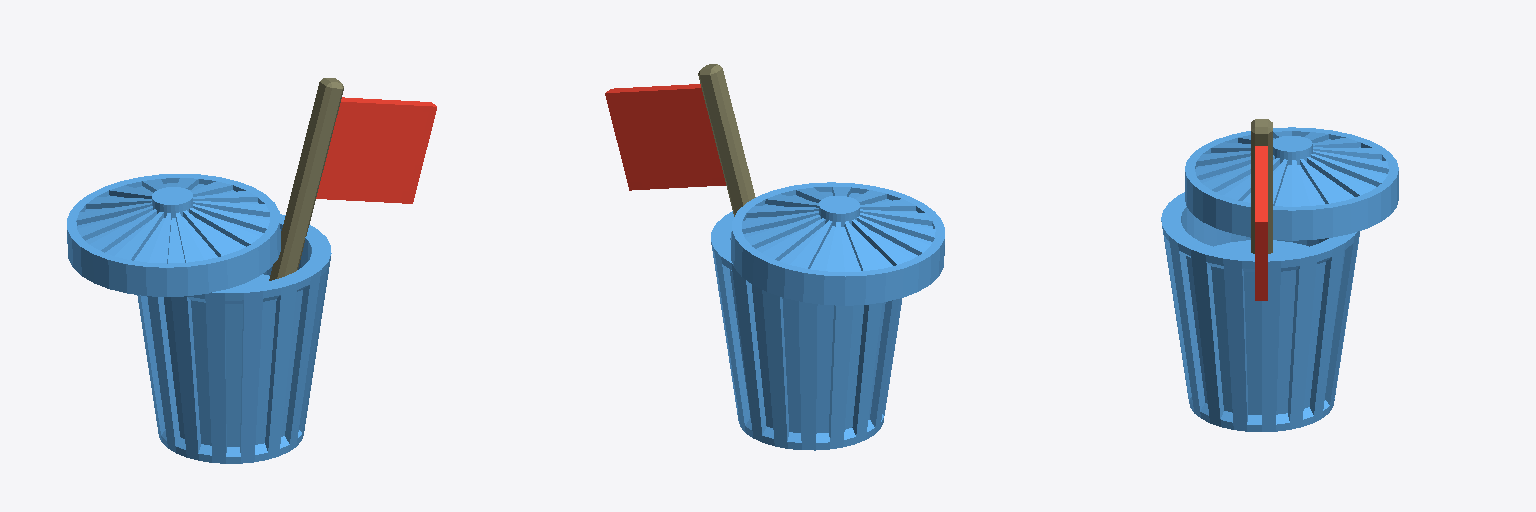
3 renders of one model, left to right at view 1: azimuth 30°, elevation 25°; view 2: azimuth 150°, elevation 25°; view 3: azimuth 270°, elevation 25°, orthographic.
Visible parts, largest first — view 1: 立方体, 円柱.001; view 2: 立方体, 円柱.001; view 3: 立方体, 円柱.001.
Boxes of the visible parts, x1,y1,x2,y2 form: 立方体: [137, 78, 436, 463]; 円柱.001: [67, 174, 280, 296]; 立方体: [605, 64, 901, 450]; 円柱.001: [731, 182, 944, 305]; 立方体: [1161, 119, 1359, 431]; 円柱.001: [1185, 127, 1398, 240].
Size of the model in its own units: 3.89 by 3.68 by 2.37.
1 materials, 1 textured.